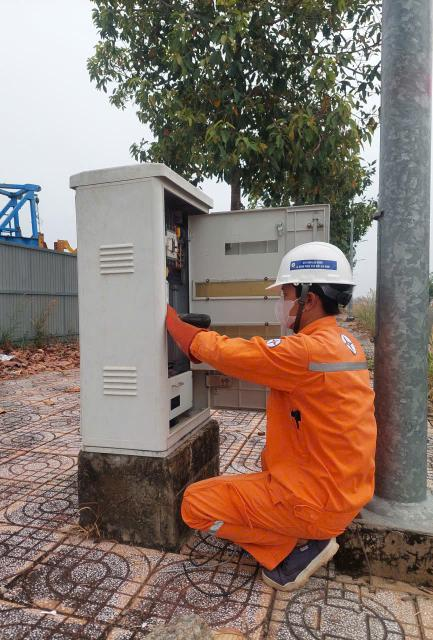gloves: (144, 303, 225, 374)
helmet: (261, 226, 373, 314)
shoes: (249, 521, 343, 603)
